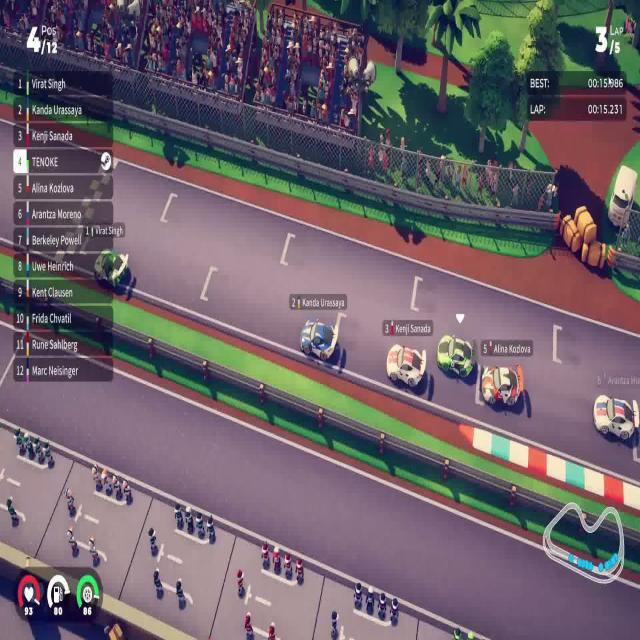car: (592, 393, 638, 443), (480, 363, 524, 409), (386, 342, 427, 390), (436, 332, 475, 380), (299, 316, 339, 362), (92, 247, 129, 290)
